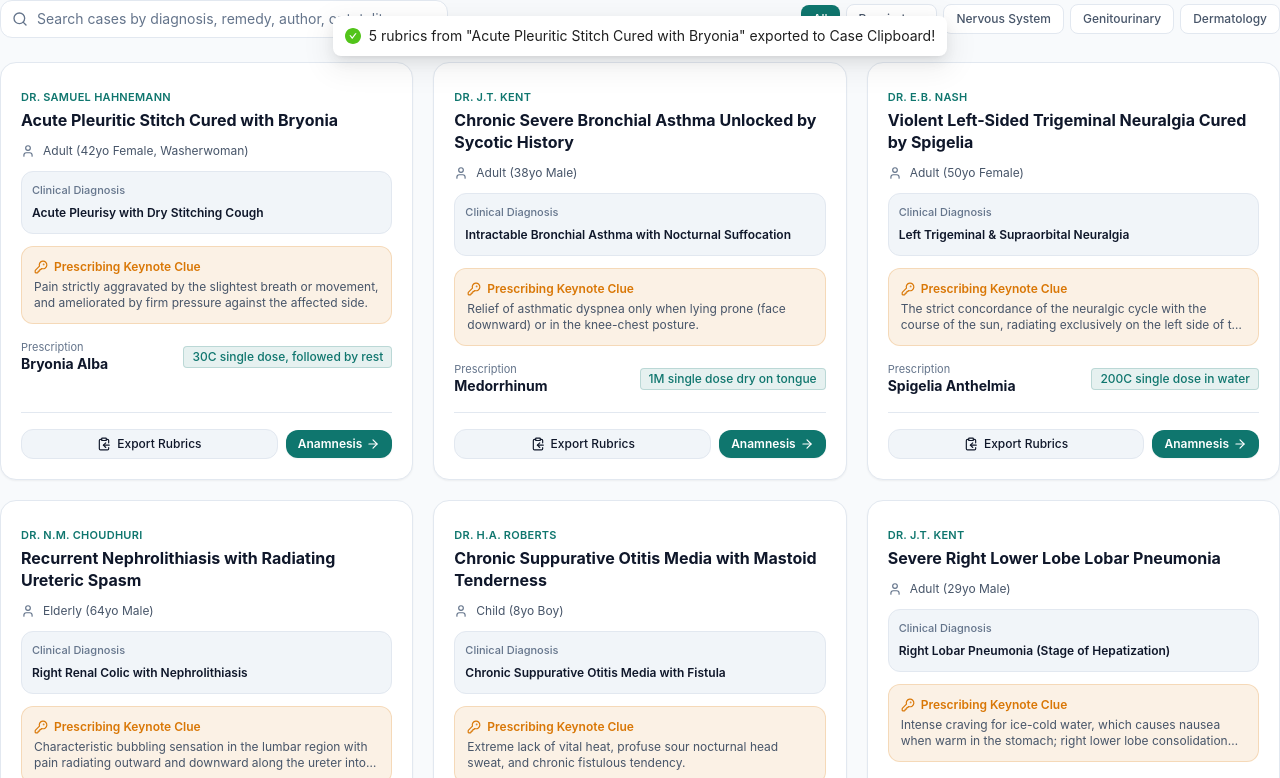
Scenario: CuredCasesView Component › opens Anamnesis details modal on click
Expected: the text "Acute Pleuritic Stitch Cured with Bryonia" is shown, [369, 27, 935, 44]
Click the button "Anamnesis" below "Bryonia Alba". click: [339, 444]
box: [286, 430, 392, 458]
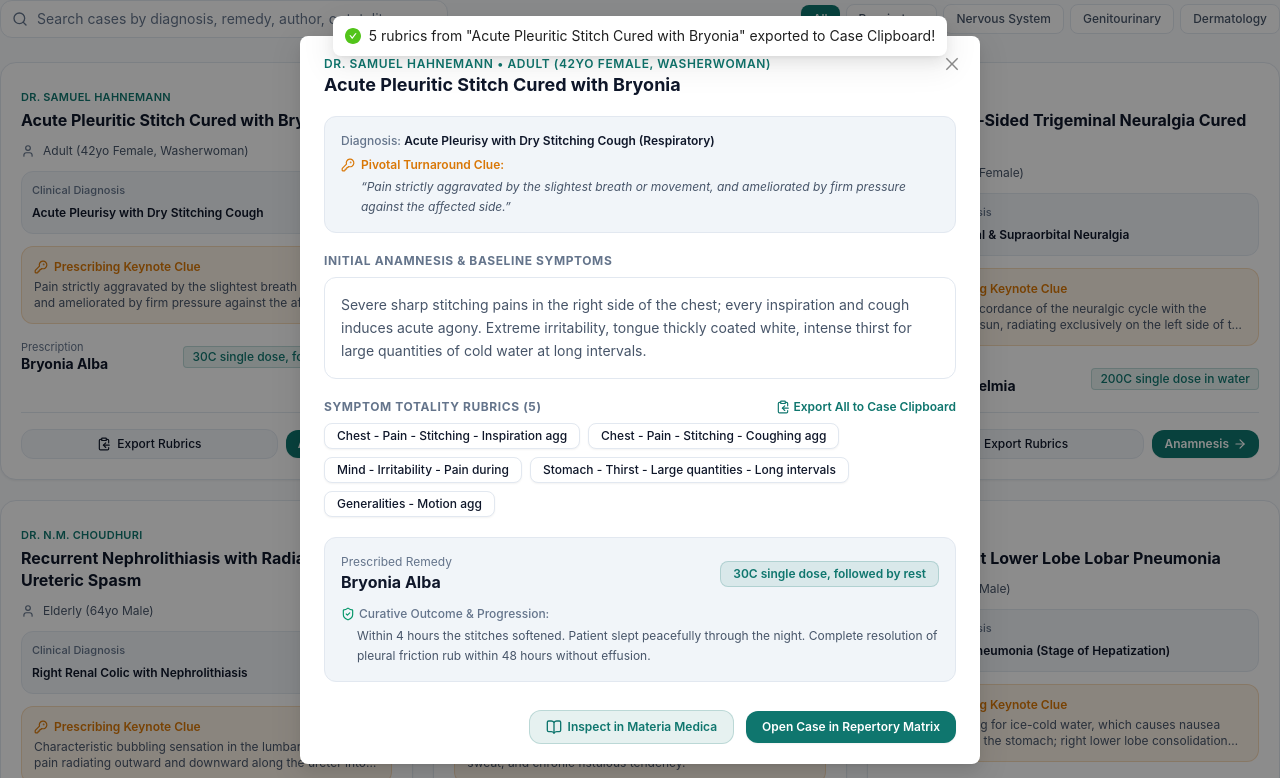
Expected: the heading "Initial Anamnesis & Baseline Symptoms" is shown, [324, 253, 612, 268]
